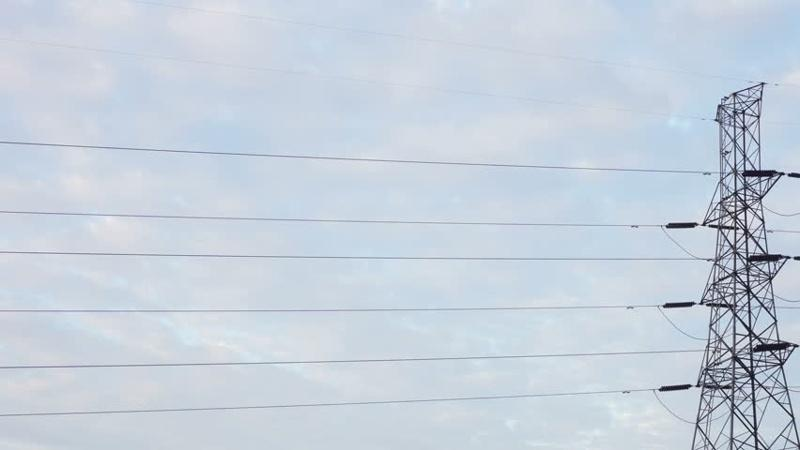power_tower: (675, 94, 791, 447)
